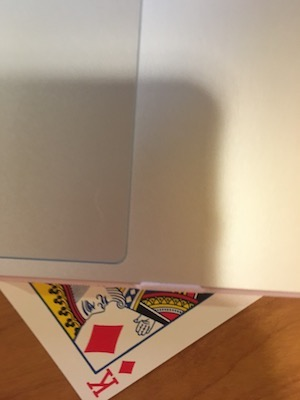KingOfDiamonds: (1, 246, 274, 398)
